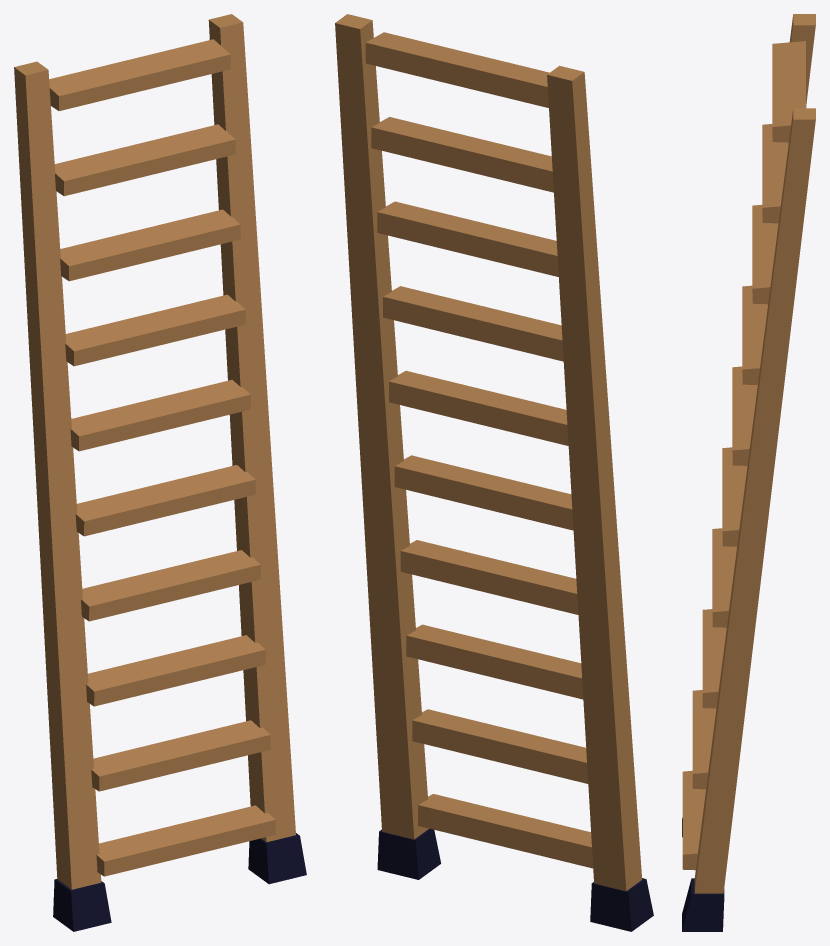
File: Wood_Ladder.fbx
The picture shows the model from 3 angles, left to right: view 1: azimuth 30°, elevation 25°; view 2: azimuth 150°, elevation 25°; view 3: azimuth 270°, elevation 25°; orthographic projection. The views are drawn at different scales.
Parts seen in each view (by area): view 1: Wood_Ladder; view 2: Wood_Ladder; view 3: Wood_Ladder.
Part boxes in pixels (left/top/right/bottom): Wood_Ladder: left=14, top=14, right=306, bottom=931; Wood_Ladder: left=335, top=14, right=653, bottom=931; Wood_Ladder: left=682, top=14, right=815, bottom=931.
Bounding box in the file's own units: 60 × 200 × 30.
